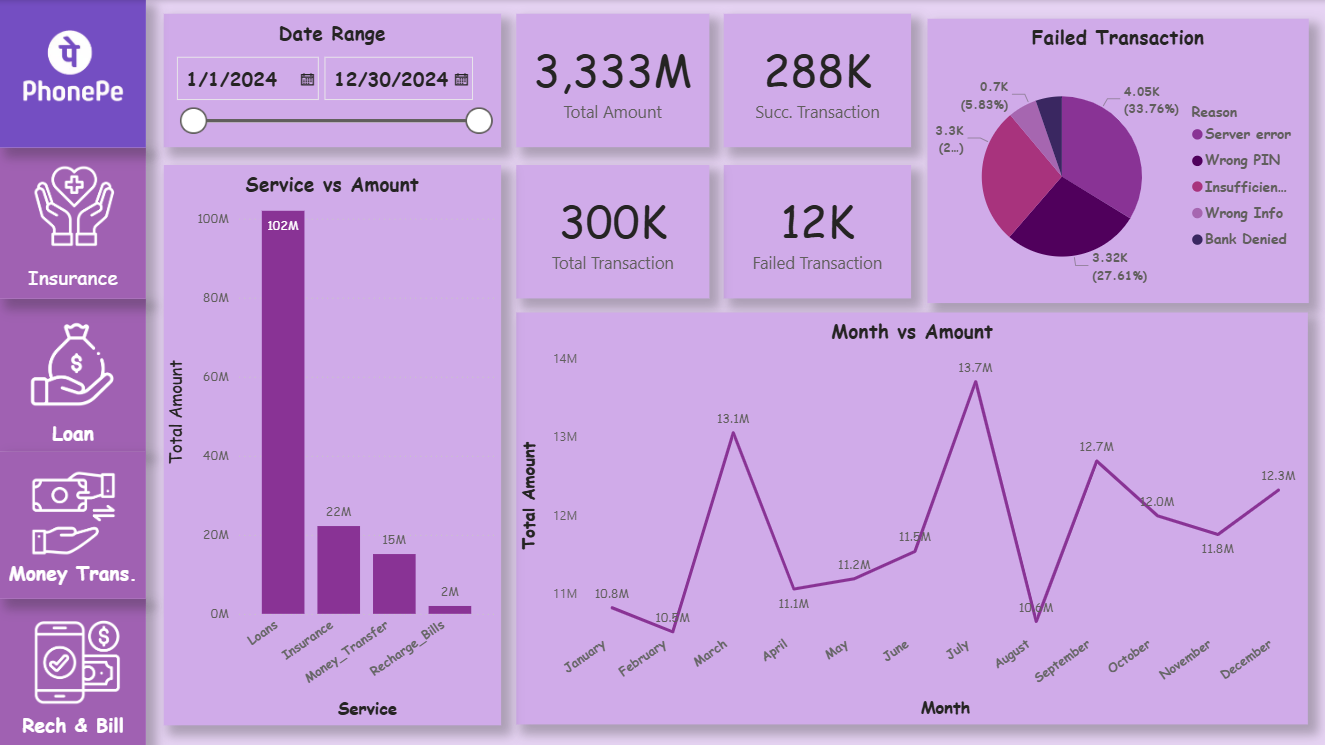

The dashboard page shown, as its layout file describes it:
{"tool":"powerbi","page":{"name":"Home","canvas":[1280,720],"ordinal":0},"visuals":[{"type":"shape","box":[0,0,141.2,142.4],"z":0,"group":"g4"},{"type":"slicer","title":"Date Range","fields":{"Values":["All_Transactions.Date"]},"box":[157.8,13.7,325.2,129],"z":0},{"type":"card","title":"Date Range","fields":{"Values":["Sum(All_Transactions.Amount)"]},"box":[498.1,13.7,186.6,129],"z":1000},{"type":"shape","box":[0,142.4,141.2,146],"z":1000,"group":"g6"},{"type":"card","title":"Date Range","fields":{"Values":["Count(All_Transactions.Transaction_ID)"]},"box":[698.5,13.7,181.1,129],"z":2000},{"type":"shape","box":[0,288.3,141.2,147.2],"z":2000,"group":"g8"},{"type":"card","title":"Date Range","fields":{"Values":["Count(All_Transactions.Transaction_ID)"]},"box":[698.5,159.2,181.1,129],"z":3000},{"type":"shape","box":[0,435.6,141.2,142.4],"z":3000,"group":"g7"},{"type":"card","title":"Date Range","fields":{"Values":["Count(All_Transactions.Transaction_ID)"]},"box":[498.1,159.2,186.6,129],"z":4000},{"type":"shape","box":[0,578,141.2,142.4],"z":4000,"group":"g2"},{"type":"image","box":[13.7,13.7,113.9,105.7],"z":5000,"group":"g4"},{"type":"pieChart","title":"Failed Transaction","fields":{"Category":["All_Transactions.Reason"],"Y":["CountNonNull(All_Transactions.Reason)"]},"box":[894.7,17.8,367.8,274.4],"z":5000},{"type":"image","box":[13.3,301.6,115.8,97.7],"z":6000,"group":"g8"},{"type":"lineChart","title":"Month vs Amount","fields":{"Category":["All_Transactions.Date.Variation.Date Hierarchy.Month"],"Y":["Sum(All_Transactions.Amount)"]},"box":[498.1,301.9,764.3,397.9],"z":6000},{"type":"group","id":"g1","title":"Group 3","box":[0,288.3,141.2,147.2],"z":7000},{"type":"image","box":[19.3,587.7,109.8,103.8],"z":7000,"group":"g2"},{"type":"group","id":"g2","title":"Group 5","box":[0,0,483,720.4],"z":8000},{"type":"image","box":[14.5,148.4,114.6,101.4],"z":8000,"group":"g6"},{"type":"actionButton","box":[1.4,140,140,148.2],"z":9000},{"type":"image","box":[19.3,446.5,103.8,97.7],"z":9000,"group":"g7"},{"type":"textbox","box":[0,249.8,141.2,38.6],"z":10000,"group":"g6"},{"type":"actionButton","box":[0,288.2,141.3,141.3],"z":10000},{"type":"group","id":"g3","title":"Group 7","box":[0,0,141.2,142.4],"z":10003,"group":"g5"},{"type":"group","id":"g4","title":"Group 8","box":[0,0,141.2,142.4],"z":10003,"group":"g3"},{"type":"textbox","box":[0,399.3,141.2,36.2],"z":11000,"group":"g8"},{"type":"actionButton","box":[0,436.4,144.1,141.3],"z":11000},{"type":"textbox","box":[0,534.6,141.2,41],"z":12000,"group":"g7"},{"type":"actionButton","box":[2.7,579.1,141.3,141.3],"z":12000},{"type":"textbox","box":[0,680.6,141.2,39.8],"z":13000,"group":"g2"},{"type":"clusteredColumnChart","title":"Service vs Amount ","fields":{"Category":["All_Transactions.Service"],"Y":["Sum(All_Transactions.Amount)"]},"box":[157.8,159.2,325.2,540.8],"z":21000,"group":"g5"},{"type":"group","id":"g5","title":"Group 1","box":[0,0,483,700],"z":21001,"group":"g6"},{"type":"group","id":"g6","title":"Group 2","box":[0,0,483,700],"z":21002,"group":"g7"},{"type":"group","id":"g7","title":"Group 4","box":[0,0,483,700],"z":21004,"group":"g2"},{"type":"group","id":"g8","title":"Group 6","box":[0,288.3,141.2,147.2],"z":21006,"group":"g1"}]}

Visuals, with their boxes in screenshot pixels (x1, y1, x2, y2), scaled from the page's 1280x720 canvas onto the 1325x745 screenshot:
shape: [left=0, top=0, right=146, bottom=147]
"Date Range" slicer: [left=163, top=14, right=500, bottom=148]
"Date Range" card: [left=516, top=14, right=709, bottom=148]
shape: [left=0, top=147, right=146, bottom=298]
"Date Range" card: [left=723, top=14, right=911, bottom=148]
shape: [left=0, top=298, right=146, bottom=451]
"Date Range" card: [left=723, top=165, right=911, bottom=298]
shape: [left=0, top=451, right=146, bottom=598]
"Date Range" card: [left=516, top=165, right=709, bottom=298]
shape: [left=0, top=598, right=146, bottom=744]
image: [left=14, top=14, right=132, bottom=124]
"Failed Transaction" pieChart: [left=926, top=18, right=1307, bottom=302]
image: [left=14, top=312, right=134, bottom=413]
"Month vs Amount" lineChart: [left=516, top=312, right=1307, bottom=724]
"Group 3" group: [left=0, top=298, right=146, bottom=451]
image: [left=20, top=608, right=134, bottom=716]
"Group 5" group: [left=0, top=0, right=500, bottom=744]
image: [left=15, top=154, right=134, bottom=258]
actionButton: [left=1, top=145, right=146, bottom=298]
image: [left=20, top=462, right=127, bottom=563]
textbox: [left=0, top=258, right=146, bottom=298]
actionButton: [left=0, top=298, right=146, bottom=444]
"Group 7" group: [left=0, top=0, right=146, bottom=147]
"Group 8" group: [left=0, top=0, right=146, bottom=147]
textbox: [left=0, top=413, right=146, bottom=451]
actionButton: [left=0, top=452, right=149, bottom=598]
textbox: [left=0, top=553, right=146, bottom=596]
actionButton: [left=3, top=599, right=149, bottom=744]
textbox: [left=0, top=704, right=146, bottom=744]
"Service vs Amount " clusteredColumnChart: [left=163, top=165, right=500, bottom=724]
"Group 1" group: [left=0, top=0, right=500, bottom=724]
"Group 2" group: [left=0, top=0, right=500, bottom=724]
"Group 4" group: [left=0, top=0, right=500, bottom=724]
"Group 6" group: [left=0, top=298, right=146, bottom=451]
